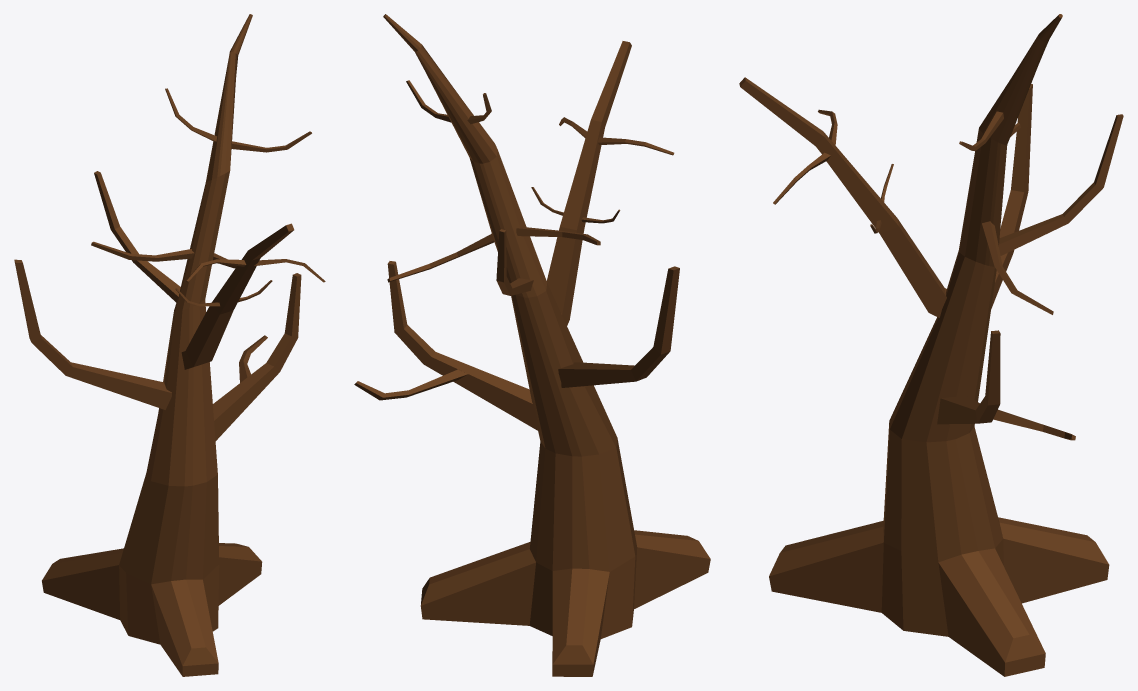
Rendered from 15 Trunk 1.FBX.
3 views of the same model, side by side, from view 1: azimuth 30°, elevation 25°; view 2: azimuth 150°, elevation 25°; view 3: azimuth 270°, elevation 25° (orthographic). The views are drawn at different scales.
Parts seen in each view (by area): view 1: Trunk 1; view 2: Trunk 1; view 3: Trunk 1.
Part boxes in pixels (x1,y1,x2,y2): Trunk 1: [14, 14, 325, 676]; Trunk 1: [354, 14, 710, 676]; Trunk 1: [739, 14, 1123, 676].
Size of the model in its own units: 559 by 1066 by 550.
